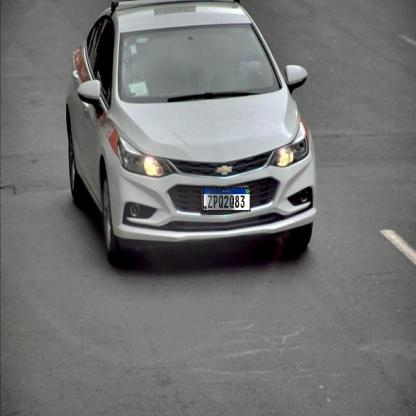PlacaM: (202, 187, 250, 212)
